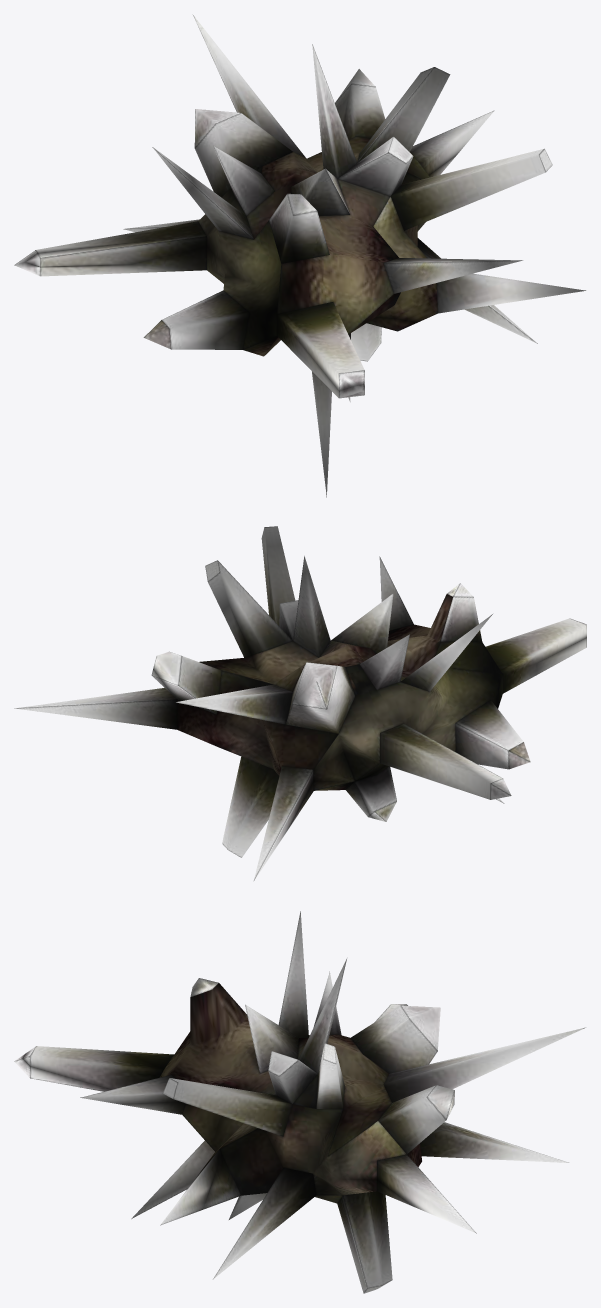
File: Crystal1.obj
3 views of the same model, one above another, from view 1: azimuth 30°, elevation 25°; view 2: azimuth 150°, elevation 25°; view 3: azimuth 270°, elevation 25° (orthographic). The views are drawn at different scales.
Parts seen in each view (by area): view 1: crystal_1; view 2: crystal_1; view 3: crystal_1.
Boxes of the visible parts, left/top/right/bottom form: crystal_1: left=14, top=15, right=585, bottom=497; crystal_1: left=14, top=526, right=586, bottom=880; crystal_1: left=14, top=911, right=585, bottom=1293.
Size of the model in its own units: 18.03 by 11.31 by 19.04.
1 material, 1 textured.
